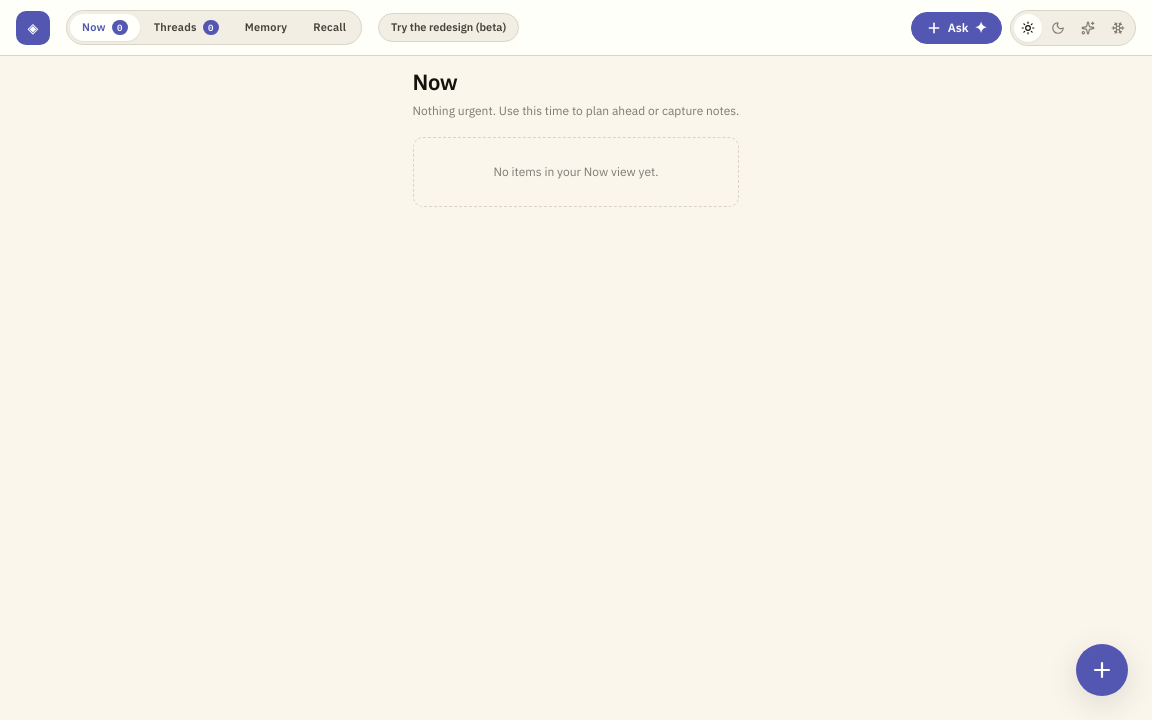
Legacy V5 App shell › exposes a global capture FAB
The width and height of the screenshot is (1152, 720).
Click the button named "open capture": (1102, 670) [1076, 644, 1128, 696]
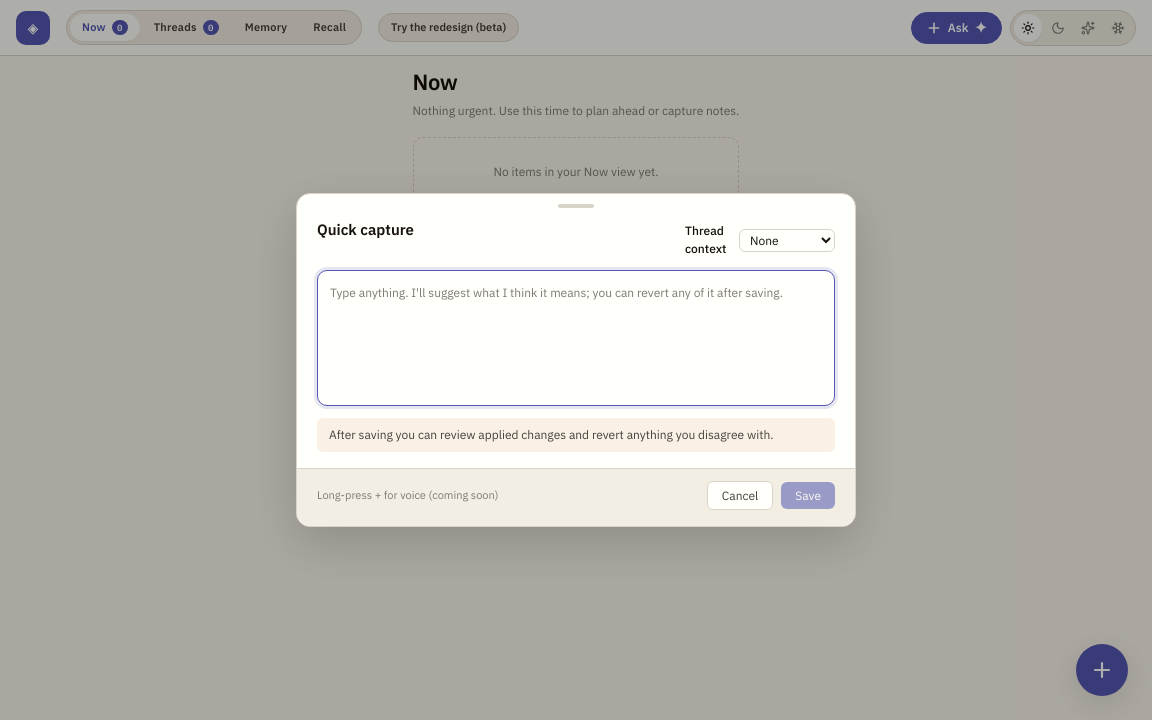
Expected: the dialog "capture" is shown, [296, 193, 856, 527]
